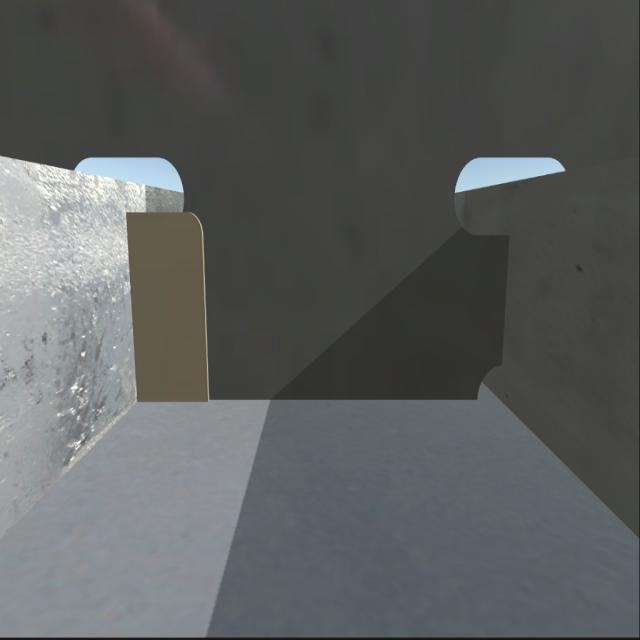fillet_hole: (467, 366, 501, 406)
fillet_yong_jeop_jang: (135, 386, 481, 410)
longi_yong_jeop_jang: (122, 216, 148, 406), (497, 236, 518, 362)
plate_CP05: (124, 206, 211, 387)
